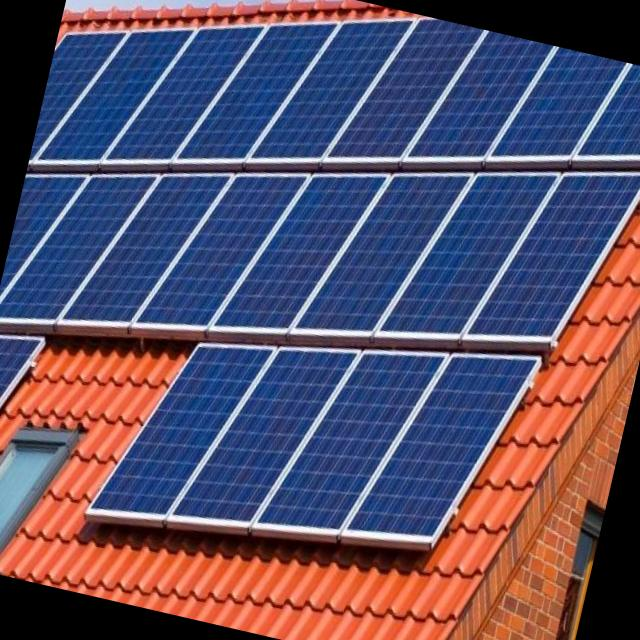no faulty: (352, 359, 533, 536), (260, 357, 437, 525), (178, 352, 350, 520), (95, 348, 266, 510), (474, 177, 639, 332), (384, 176, 549, 328), (297, 176, 463, 327), (217, 176, 378, 324), (138, 177, 296, 326), (69, 176, 222, 322), (0, 178, 147, 321), (254, 22, 405, 156), (181, 27, 332, 155), (333, 21, 480, 152), (109, 29, 254, 157), (39, 32, 184, 157), (410, 30, 548, 154), (495, 47, 620, 154), (34, 34, 118, 153), (2, 178, 79, 286), (580, 64, 640, 151), (0, 341, 34, 393)
